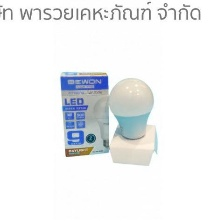carton: (57, 66, 110, 158)
light_bulb: (107, 74, 157, 147)
